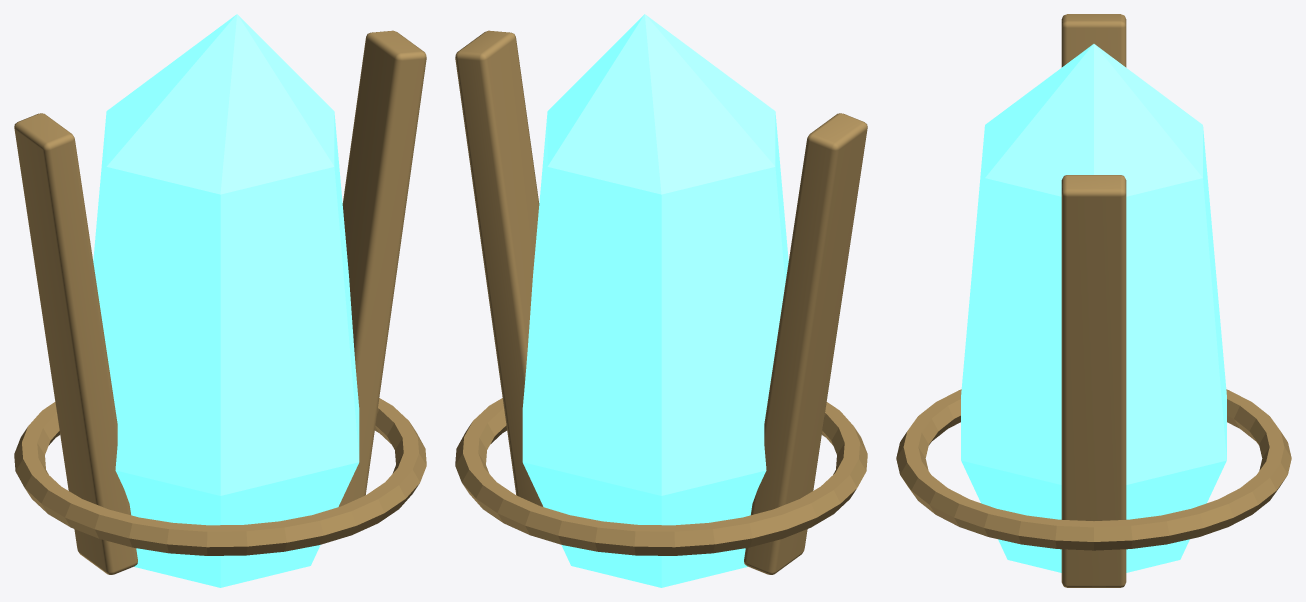
The model's file is crystal.glb.
The picture shows the model from 3 angles, left to right: view 1: azimuth 30°, elevation 25°; view 2: azimuth 150°, elevation 25°; view 3: azimuth 270°, elevation 25°; orthographic projection. The views are drawn at different scales.
Parts seen in each view (by area): view 1: Main crystal, Gold key frame, Gold key frame.001, Suspension halo; view 2: Main crystal, Gold key frame, Gold key frame.001, Suspension halo; view 3: Main crystal, Gold key frame.001, Suspension halo, Gold key frame.
Boxes of the visible parts, x1,y1,x2,y2 form: Main crystal: (93, 14, 359, 587); Gold key frame: (14, 113, 137, 574); Gold key frame.001: (338, 30, 426, 506); Suspension halo: (14, 398, 426, 555); Main crystal: (522, 14, 788, 587); Gold key frame: (744, 113, 867, 574); Gold key frame.001: (455, 30, 543, 506); Suspension halo: (455, 398, 867, 555); Main crystal: (961, 44, 1226, 572); Gold key frame.001: (1061, 175, 1126, 587); Suspension halo: (896, 389, 1291, 550); Gold key frame: (1061, 14, 1126, 67).
Bounding box in the file's own units: 0.7174 × 0.94 × 0.67.
